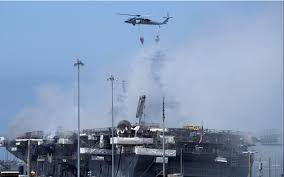maybay_muctieu: (116, 11, 173, 28)
